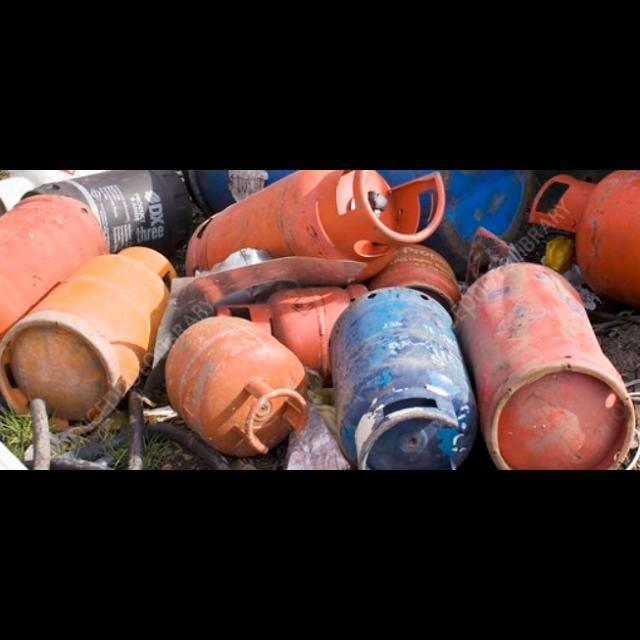Cylinders: (326, 286, 481, 470), (186, 170, 450, 277)
